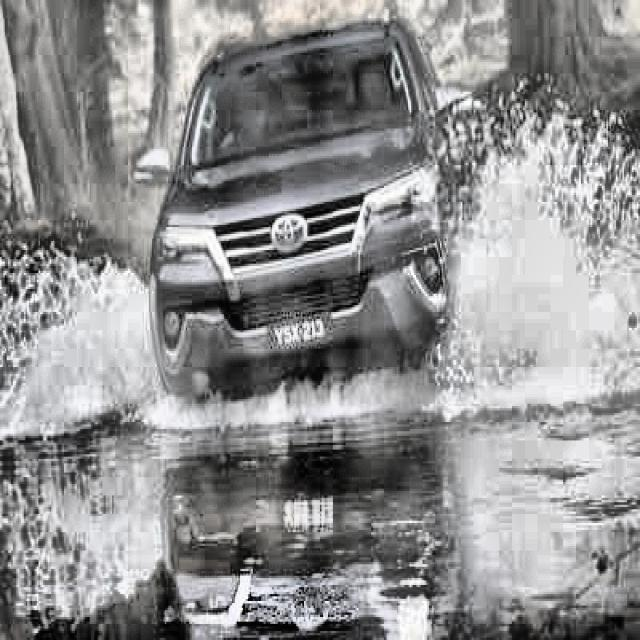license_plate: (266, 313, 333, 353)
